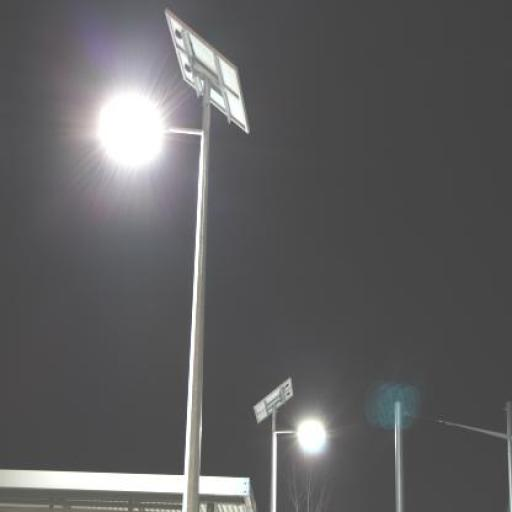street light: (103, 104, 212, 512), (271, 421, 325, 511)
